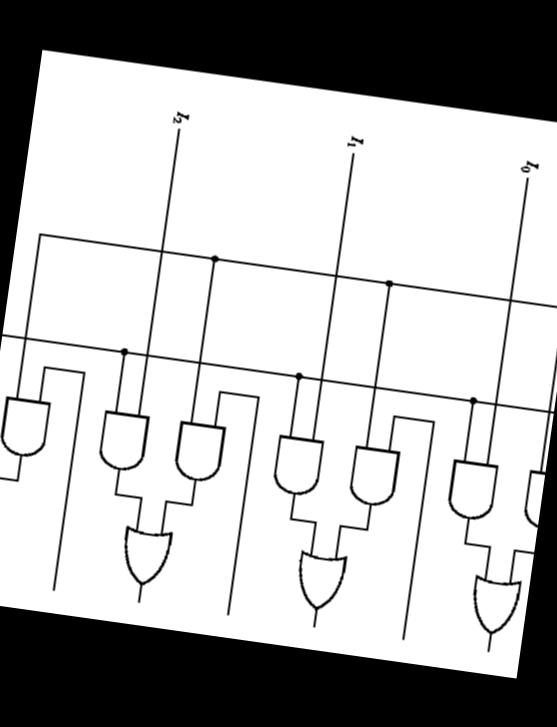and: (160, 403, 242, 490), (332, 433, 411, 523), (437, 444, 512, 538), (261, 417, 333, 511), (86, 394, 158, 486), (0, 380, 60, 469), (512, 456, 546, 538)
or: (454, 555, 532, 644), (107, 509, 183, 595), (281, 537, 356, 624), (0, 489, 9, 573)
